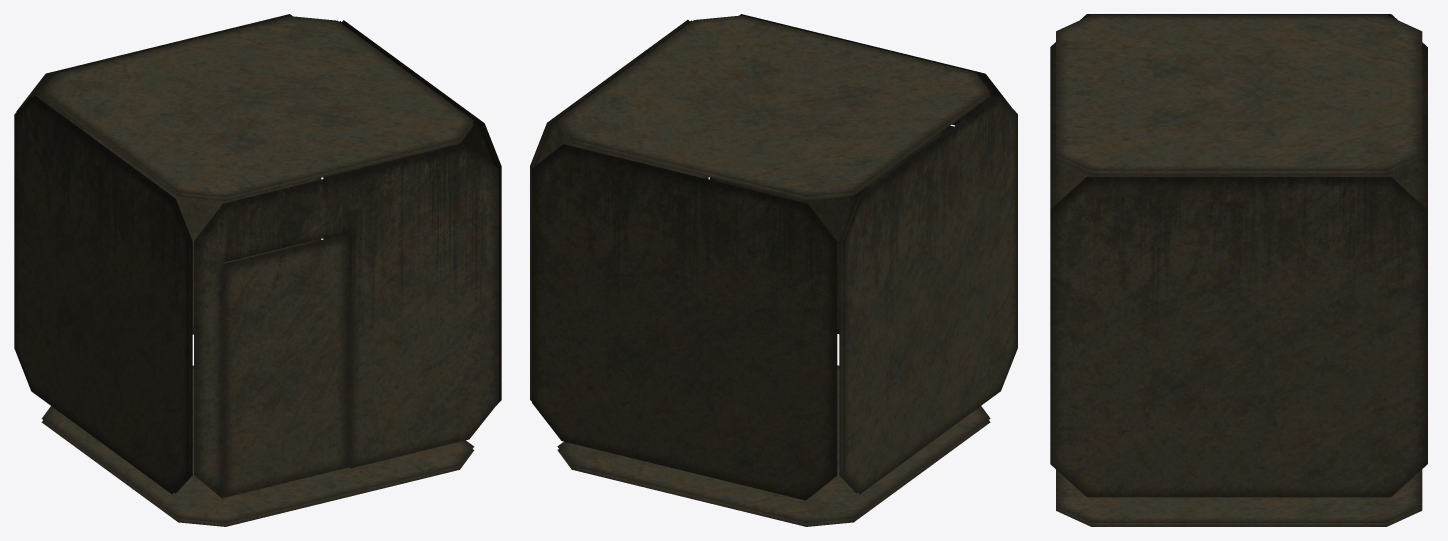
Rendered from 03_02_containment_cube_glass.dae.
3 renders of one model, left to right at view 1: azimuth 30°, elevation 25°; view 2: azimuth 150°, elevation 25°; view 3: azimuth 270°, elevation 25°, orthographic. The views are drawn at different scales.
Parts seen in each view (by area): view 1: glass_intact; view 2: glass_intact; view 3: glass_intact.
Part boxes in pixels (bbox=[...]): glass_intact: bbox=[14, 14, 501, 526]; glass_intact: bbox=[530, 14, 1017, 526]; glass_intact: bbox=[1050, 14, 1427, 526].
Size of the model in its own units: 3.81 by 3.84 by 3.79.
